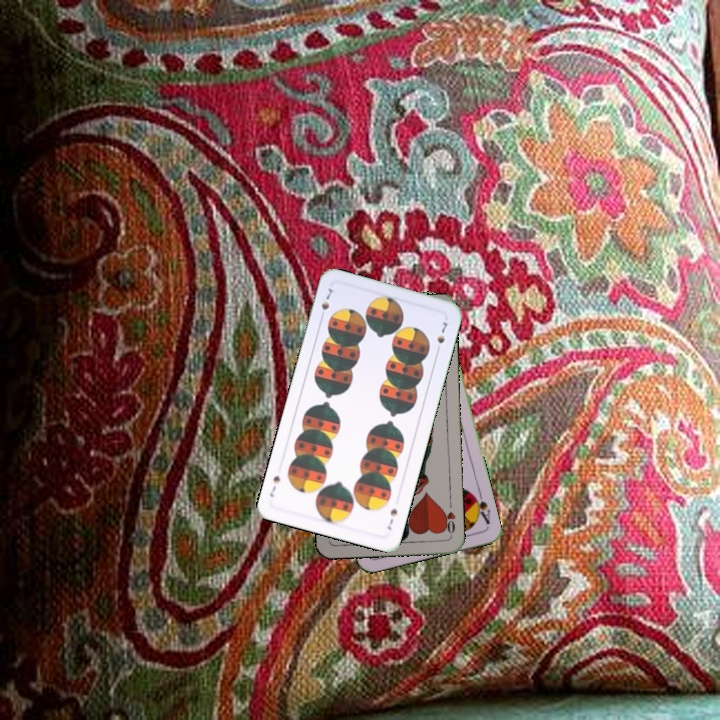HO: (439, 497, 458, 538)
S7: (316, 284, 335, 322), (383, 505, 400, 532)
SA: (468, 488, 493, 527)
